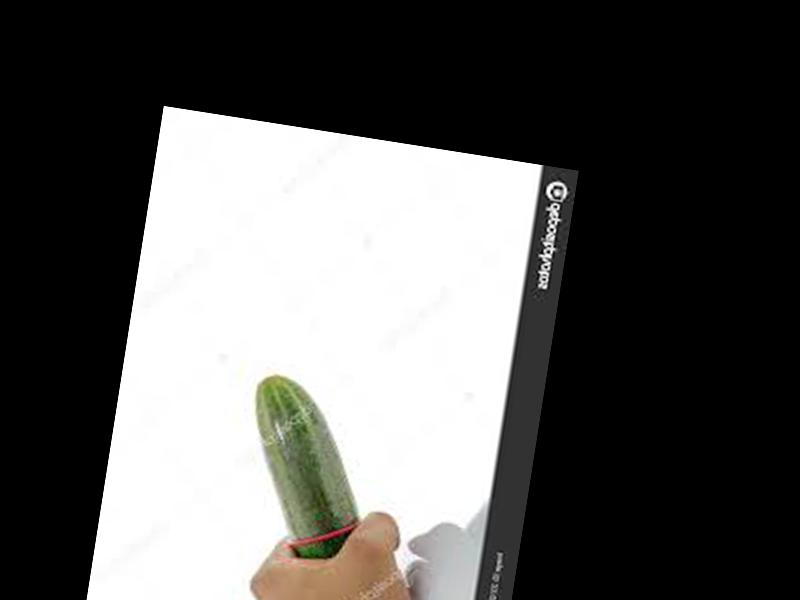Cucumber: (232, 372, 378, 565)
